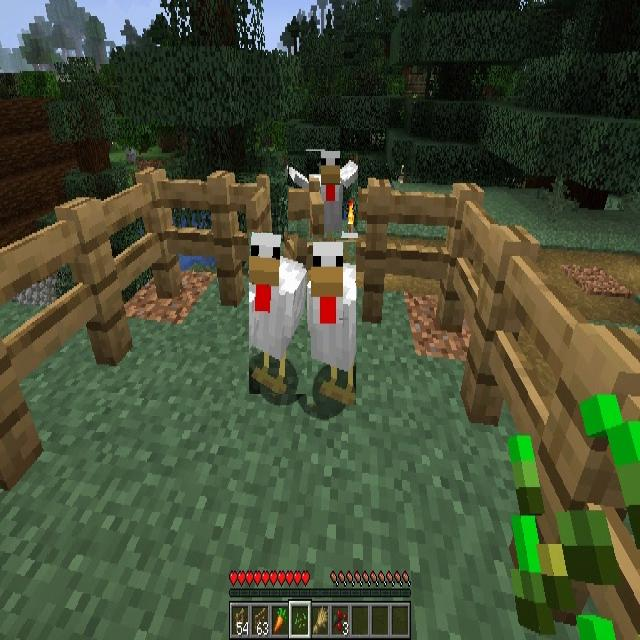duck: (249, 232, 307, 394), (307, 242, 356, 405), (288, 151, 358, 238)
